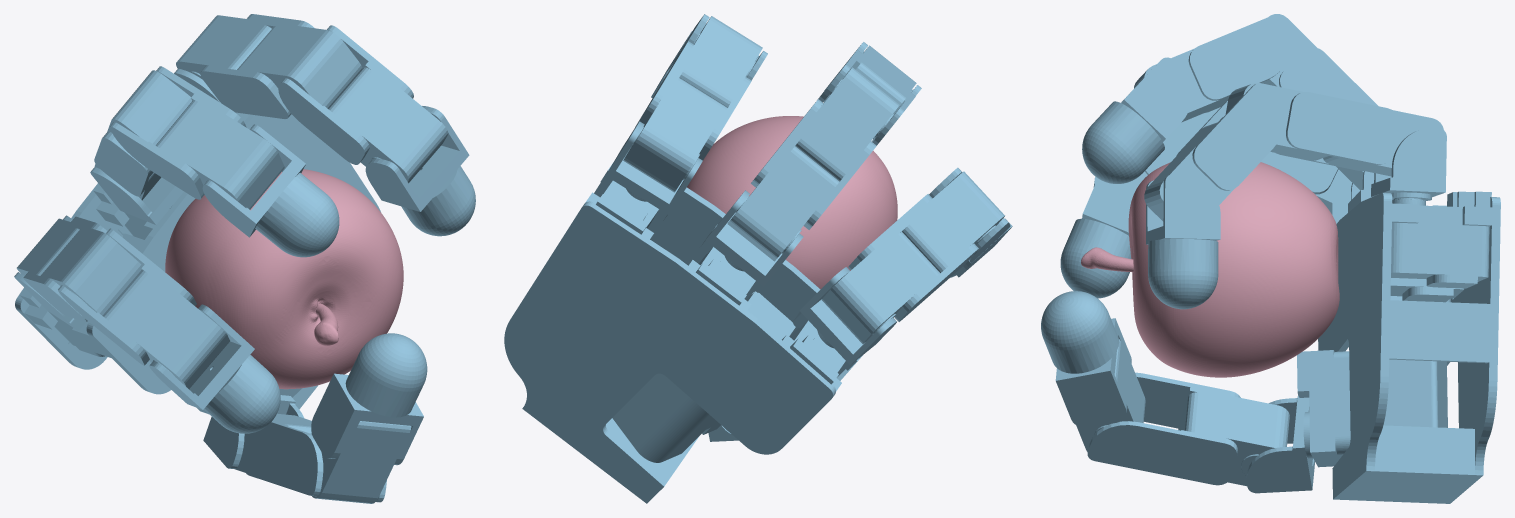
3 views of the same model, side by side, from view 1: azimuth 30°, elevation 25°; view 2: azimuth 150°, elevation 25°; view 3: azimuth 270°, elevation 25° (orthographic). The views are drawn at different scales.
Visible parts, largest first — view 1: world, apple.stl; view 2: world, apple.stl; view 3: world, apple.stl.
Boxes of the visible parts, bbox=[...] form: world: bbox=[14, 14, 475, 503]; apple.stl: bbox=[165, 169, 403, 389]; world: bbox=[504, 14, 1012, 503]; apple.stl: bbox=[687, 116, 897, 289]; world: bbox=[1041, 14, 1500, 503]; apple.stl: bbox=[1081, 162, 1339, 377].
Bounding box in the file's own units: 0.1591 × 0.1648 × 0.1569.
